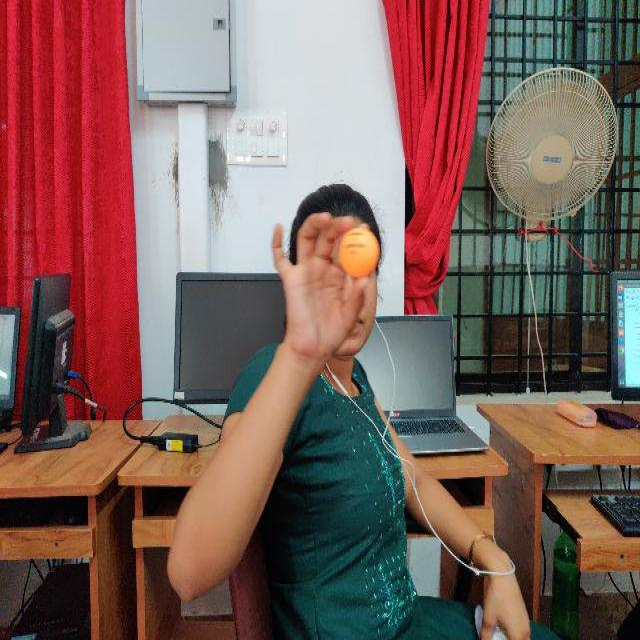ping-pong-ball: (339, 229, 378, 275)
